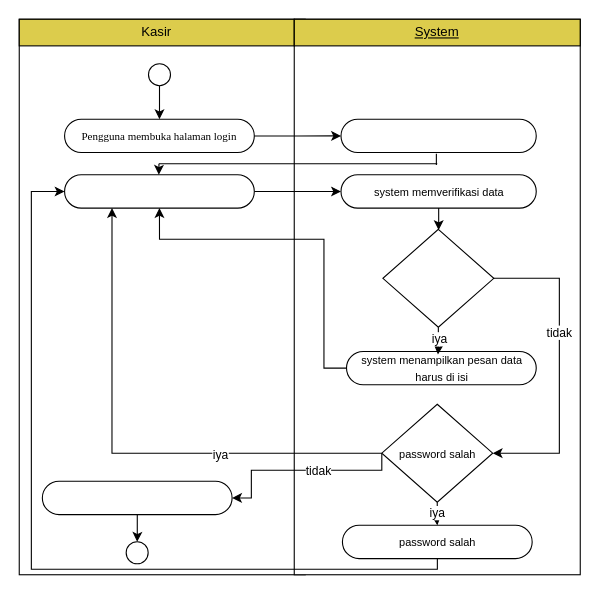
The diagram is 600 pixels wide and 597 high, and some of its shapes have lost their labels. The centre of each missing label's shape, as x and y in pixels:
"pengguna memasukan username dan password" goes at point (158, 191).
"pengguna menekan tombol login" goes at point (136, 497).
"system menampilkan form login" goes at point (438, 135).
"username dan password kosong" goes at point (438, 277).
